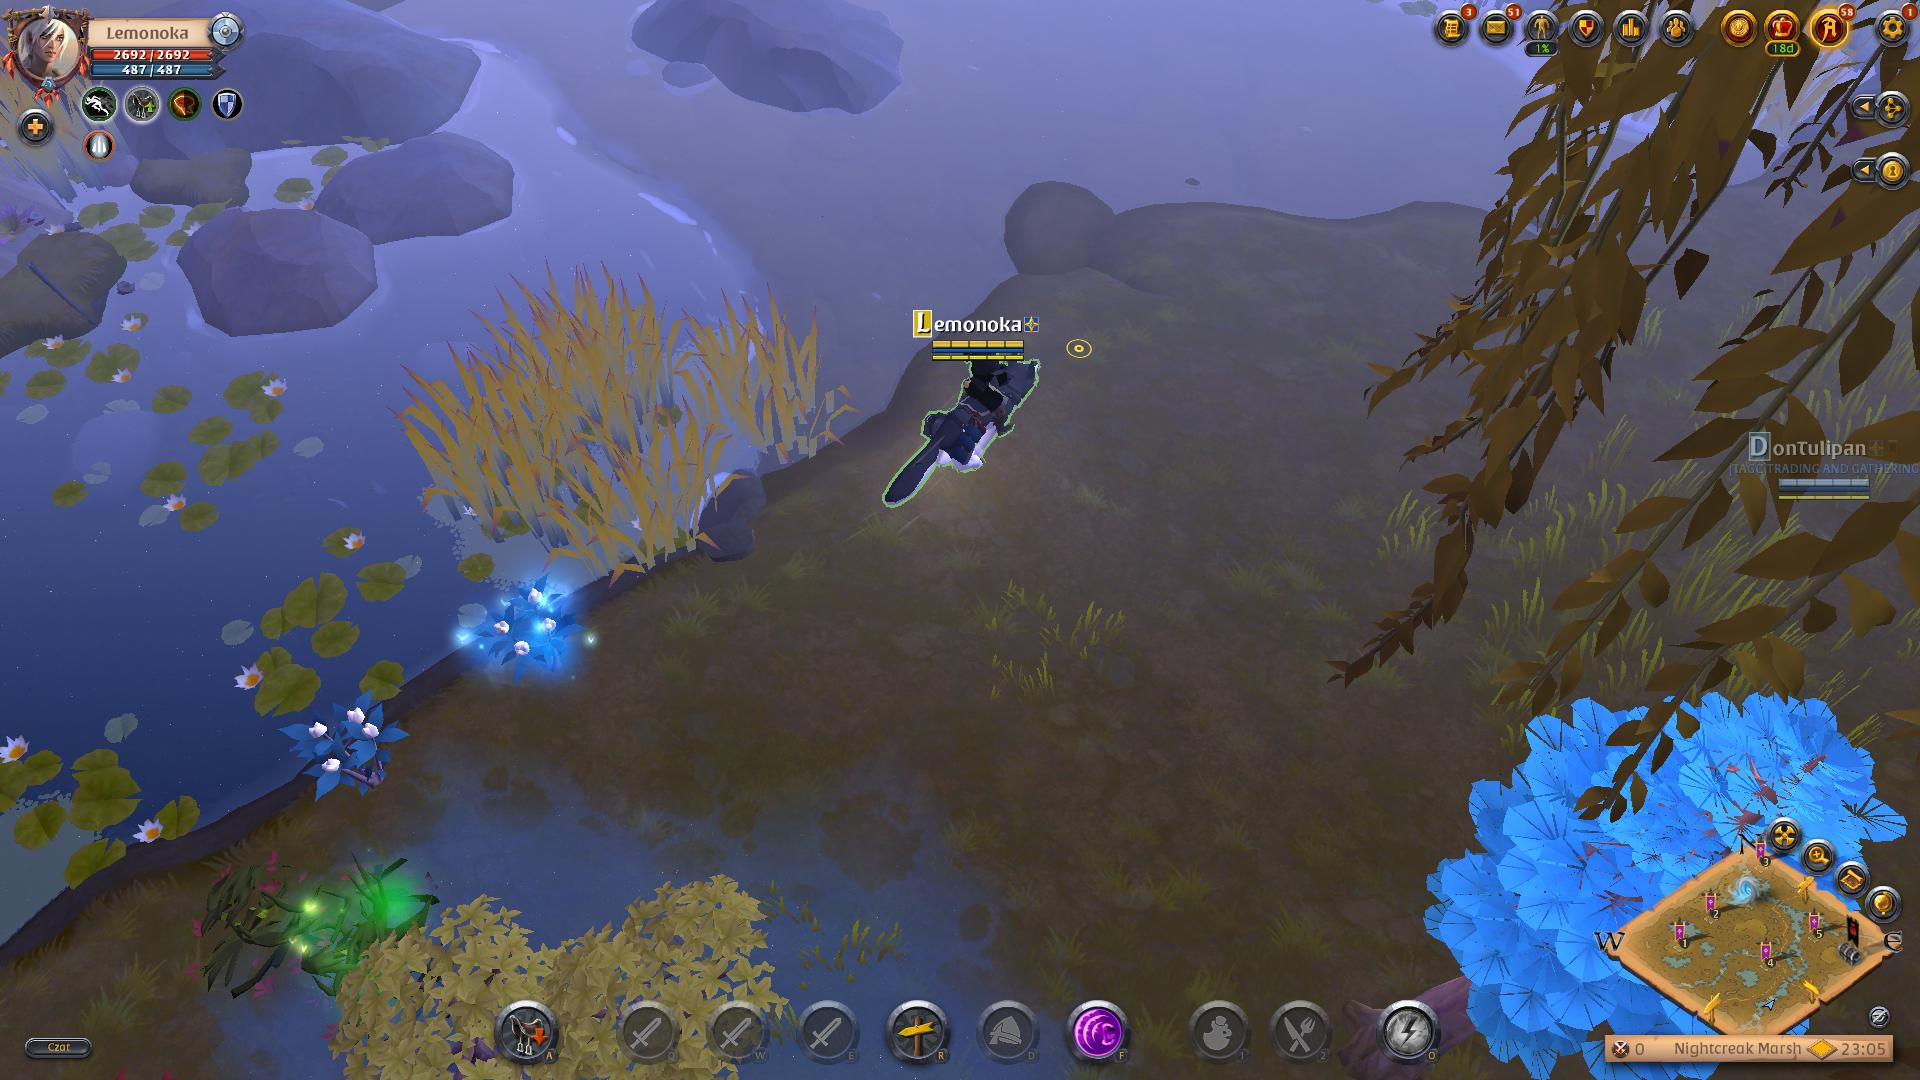fiber tier 4: (456, 558, 601, 688), (277, 692, 413, 802)
